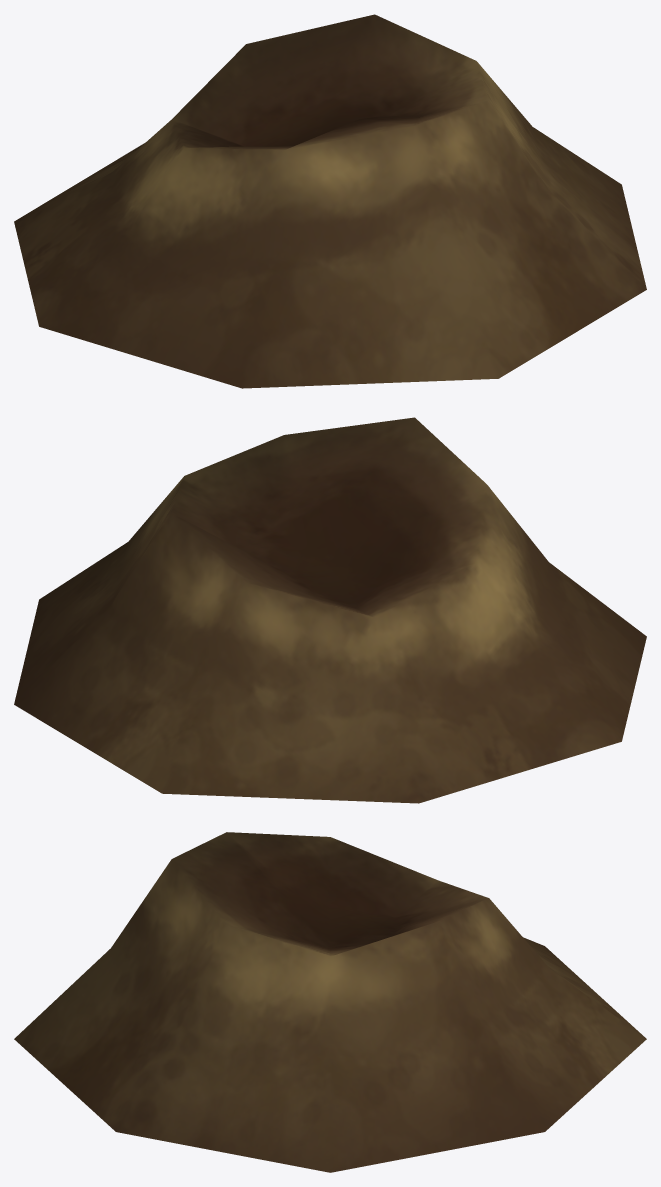
The model's file is buracoNabo.fbx.
3 renders of one model, top to bottom at view 1: azimuth 30°, elevation 25°; view 2: azimuth 150°, elevation 25°; view 3: azimuth 270°, elevation 25°, orthographic. The views are drawn at different scales.
Parts seen in each view (by area): view 1: CA_OPE_Props_Fazenda; view 2: CA_OPE_Props_Fazenda; view 3: CA_OPE_Props_Fazenda.
Part boxes in pixels (bbox=[...]): CA_OPE_Props_Fazenda: bbox=[14, 14, 646, 388]; CA_OPE_Props_Fazenda: bbox=[14, 417, 646, 803]; CA_OPE_Props_Fazenda: bbox=[14, 832, 646, 1172].
Size of the model in its own units: 1.51 by 0.4745 by 1.51.
